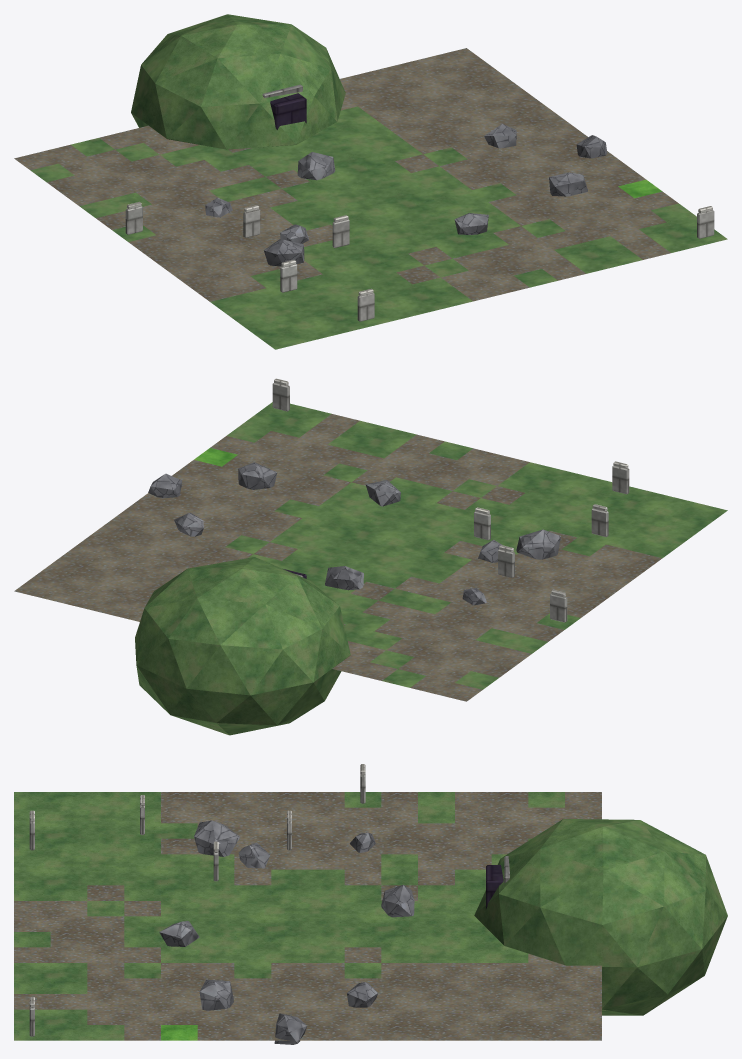
File: chunk_2_21.glb
3 views of the same model, one above another, from view 1: azimuth 30°, elevation 25°; view 2: azimuth 150°, elevation 25°; view 3: azimuth 270°, elevation 25° (orthographic). The views are drawn at different scales.
Parts seen in each view (by area): view 1: chunk_2_21; view 2: chunk_2_21; view 3: chunk_2_21.
Part boxes in pixels (x1,y1,x2,y2): chunk_2_21: (14, 14, 727, 349); chunk_2_21: (14, 378, 727, 735); chunk_2_21: (14, 764, 727, 1044).
Bounding box in the file's own units: 16.05 × 5.25 × 19.43.
8 materials, 8 textured.
